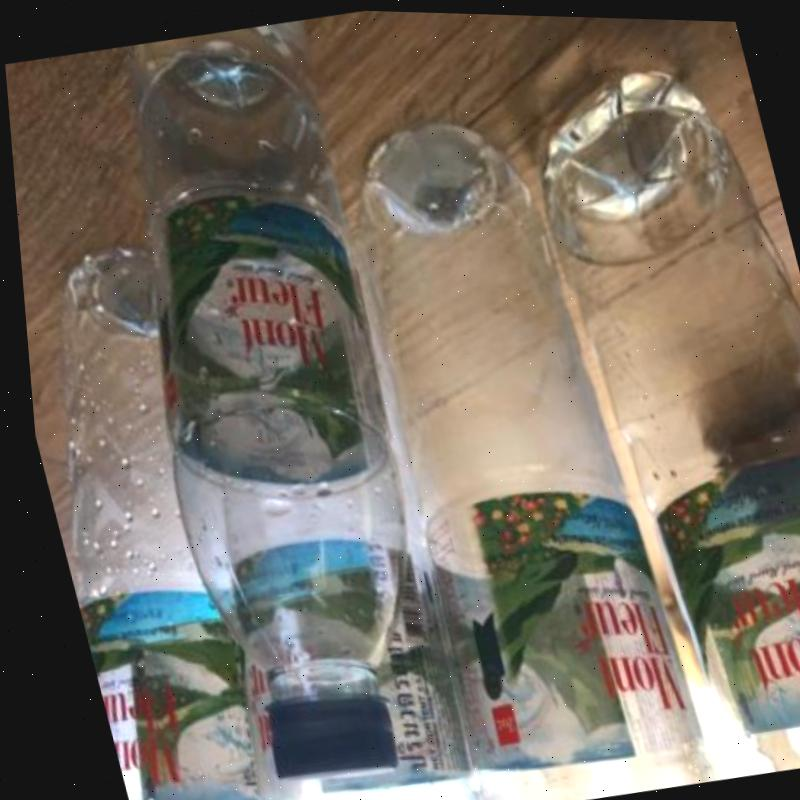botella: (60, 15, 463, 793), (316, 98, 702, 800), (516, 49, 800, 784), (15, 238, 290, 800), (188, 546, 472, 800)
